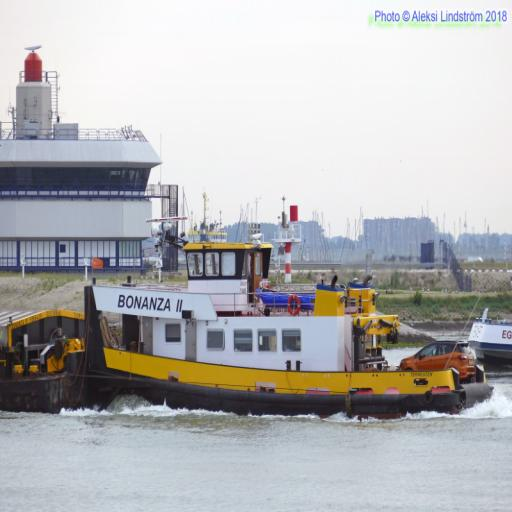tugboat: (81, 230, 496, 431)
